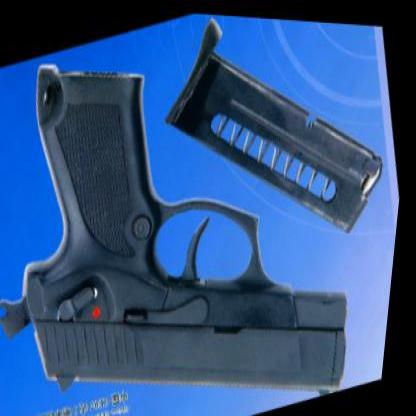pistol: (0, 0, 393, 413)
